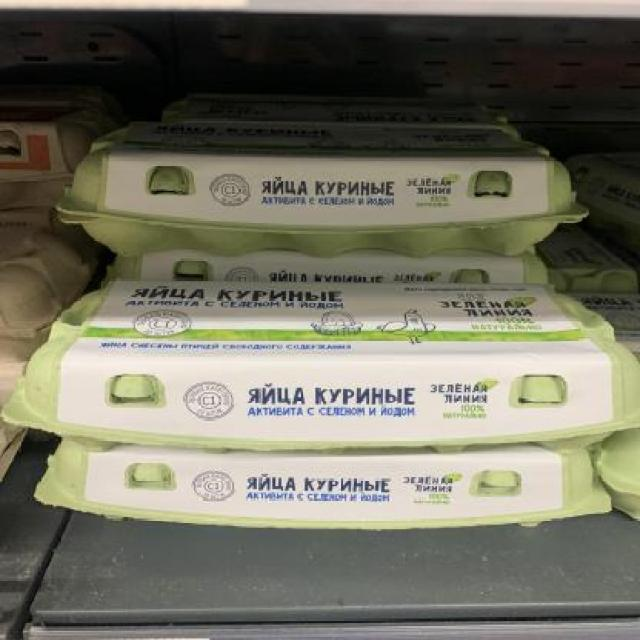Egg: (2, 278, 640, 453), (51, 118, 592, 260), (32, 438, 613, 536)
